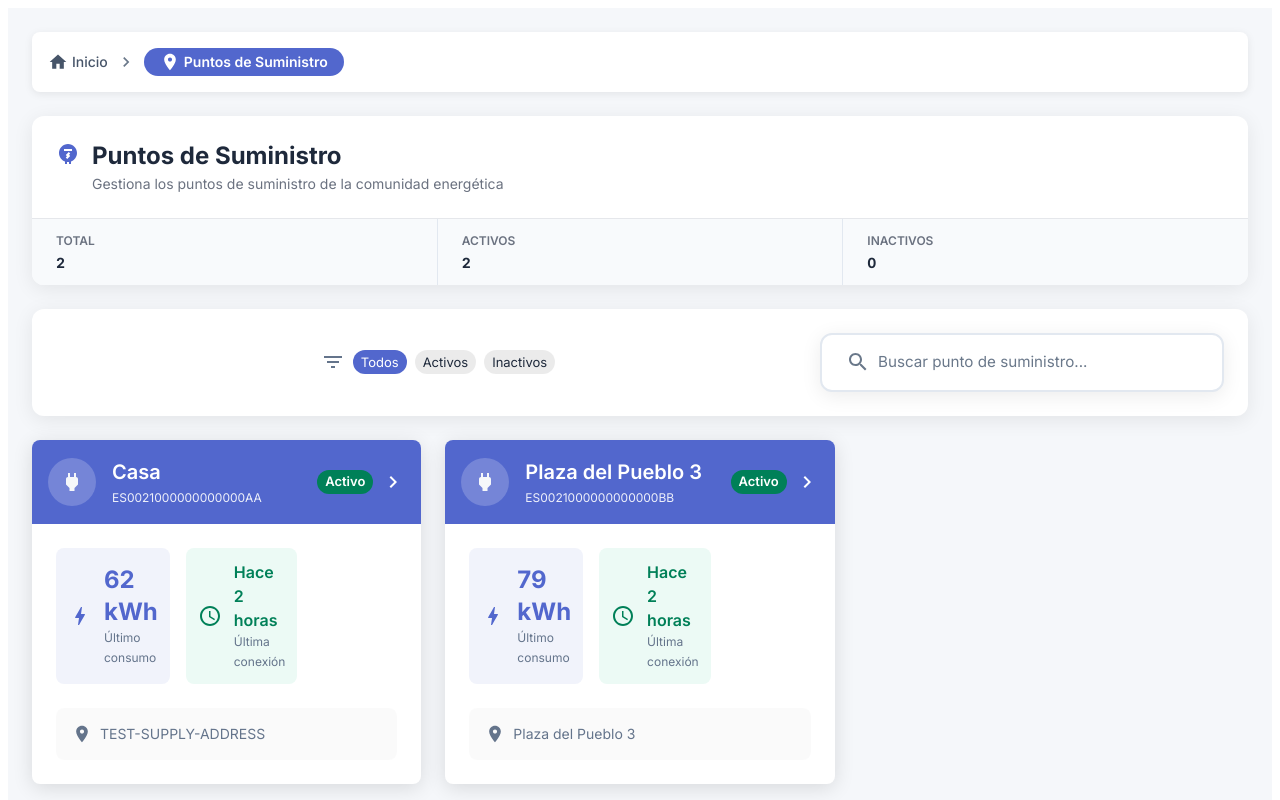
Test case: SupplyPointsPage › UI-SUP-010 shows a supply without a name by its address, and the search finds it by that address
Expected: the heading "Casa" is shown, [112,460,161,484]
Expected: the heading "Plaza del Pueblo 3" is shown, [525,456,702,488]
Step 1. Type "plaza" into the search field labelled "Buscar punto de suministro..." → (1042,362), box [878,347,1206,378]
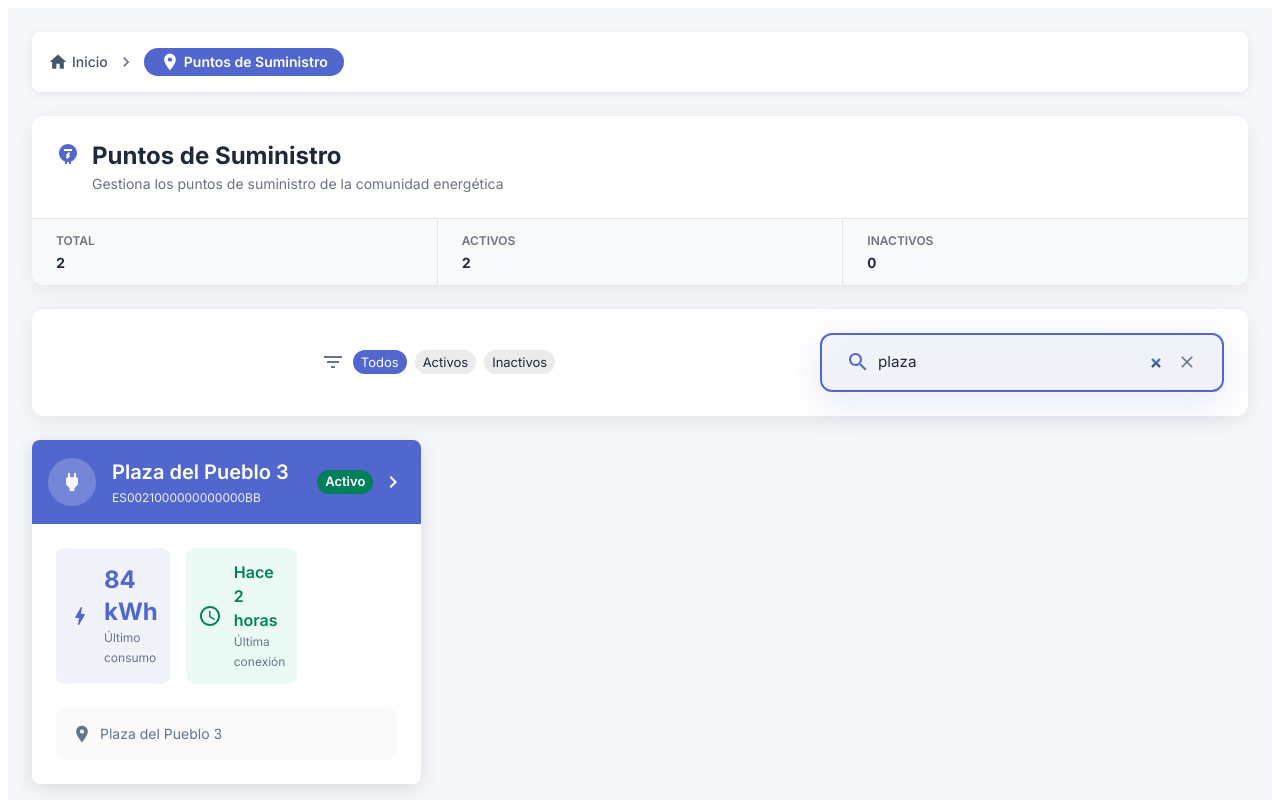
Expected: the heading "Plaza del Pueblo 3" is shown, [112,456,289,488]
Now the heading "Casa" is gone
